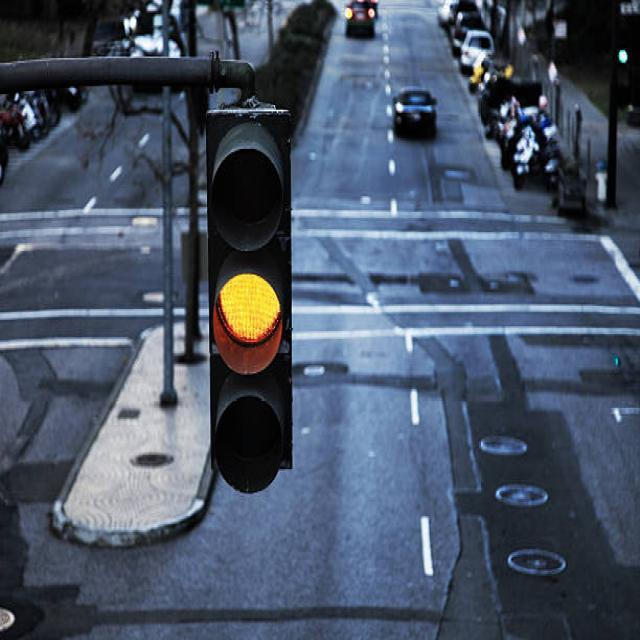yellow_light: (206, 106, 291, 492)
